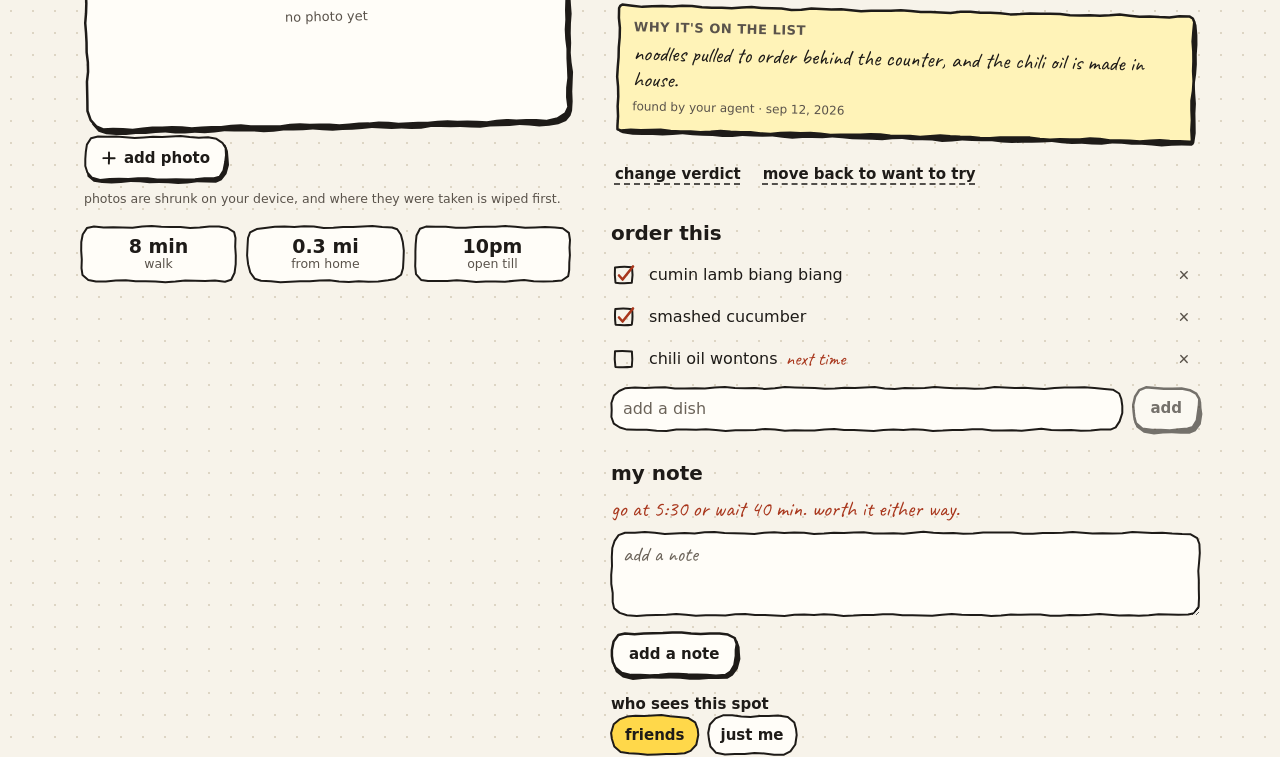
Test: on the place page › a stale order list is refused gently, and the latest one shows
(page scrolled)
Step 1. Click the checkbox labelled "chili oil wontons" → (694, 359), box [611, 341, 778, 377]
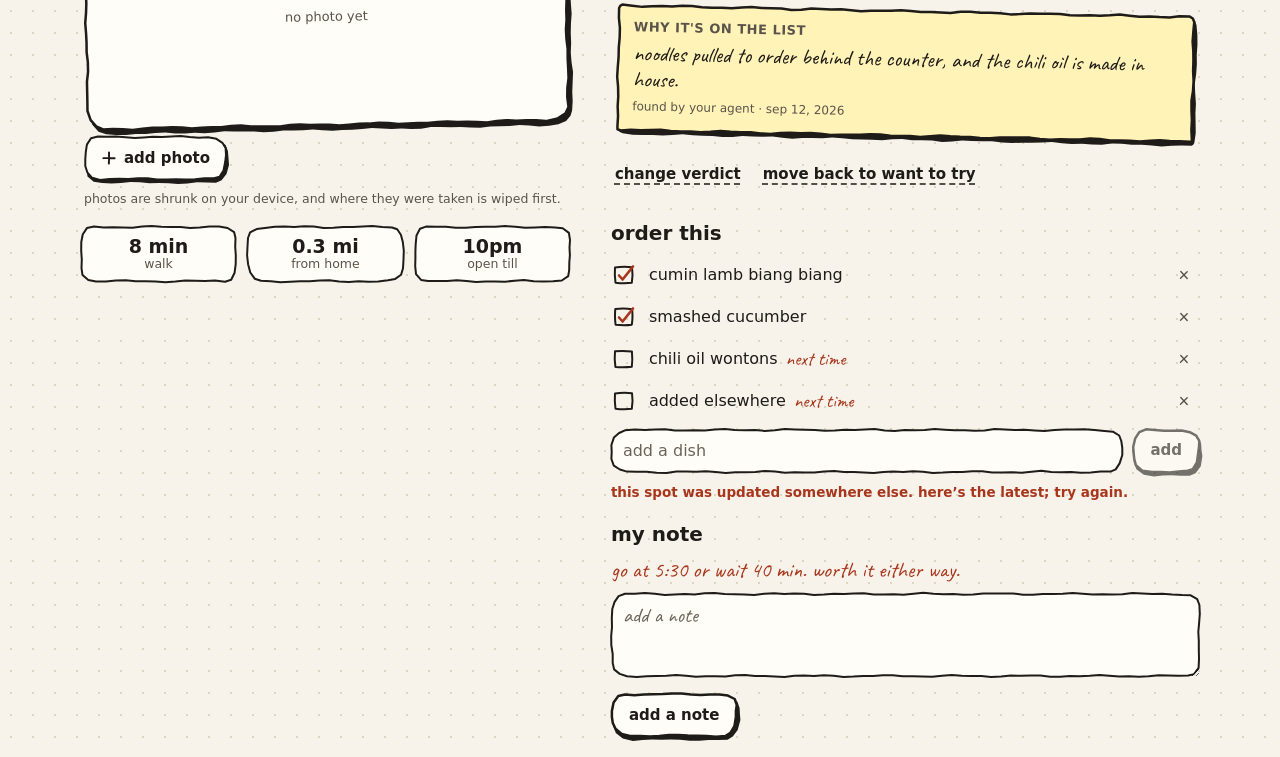
Now the message shows "updated somewhere else", box [611, 484, 1128, 500]
Now the checkbox labelled "added elsewhere" is shown, box [611, 383, 786, 419]
